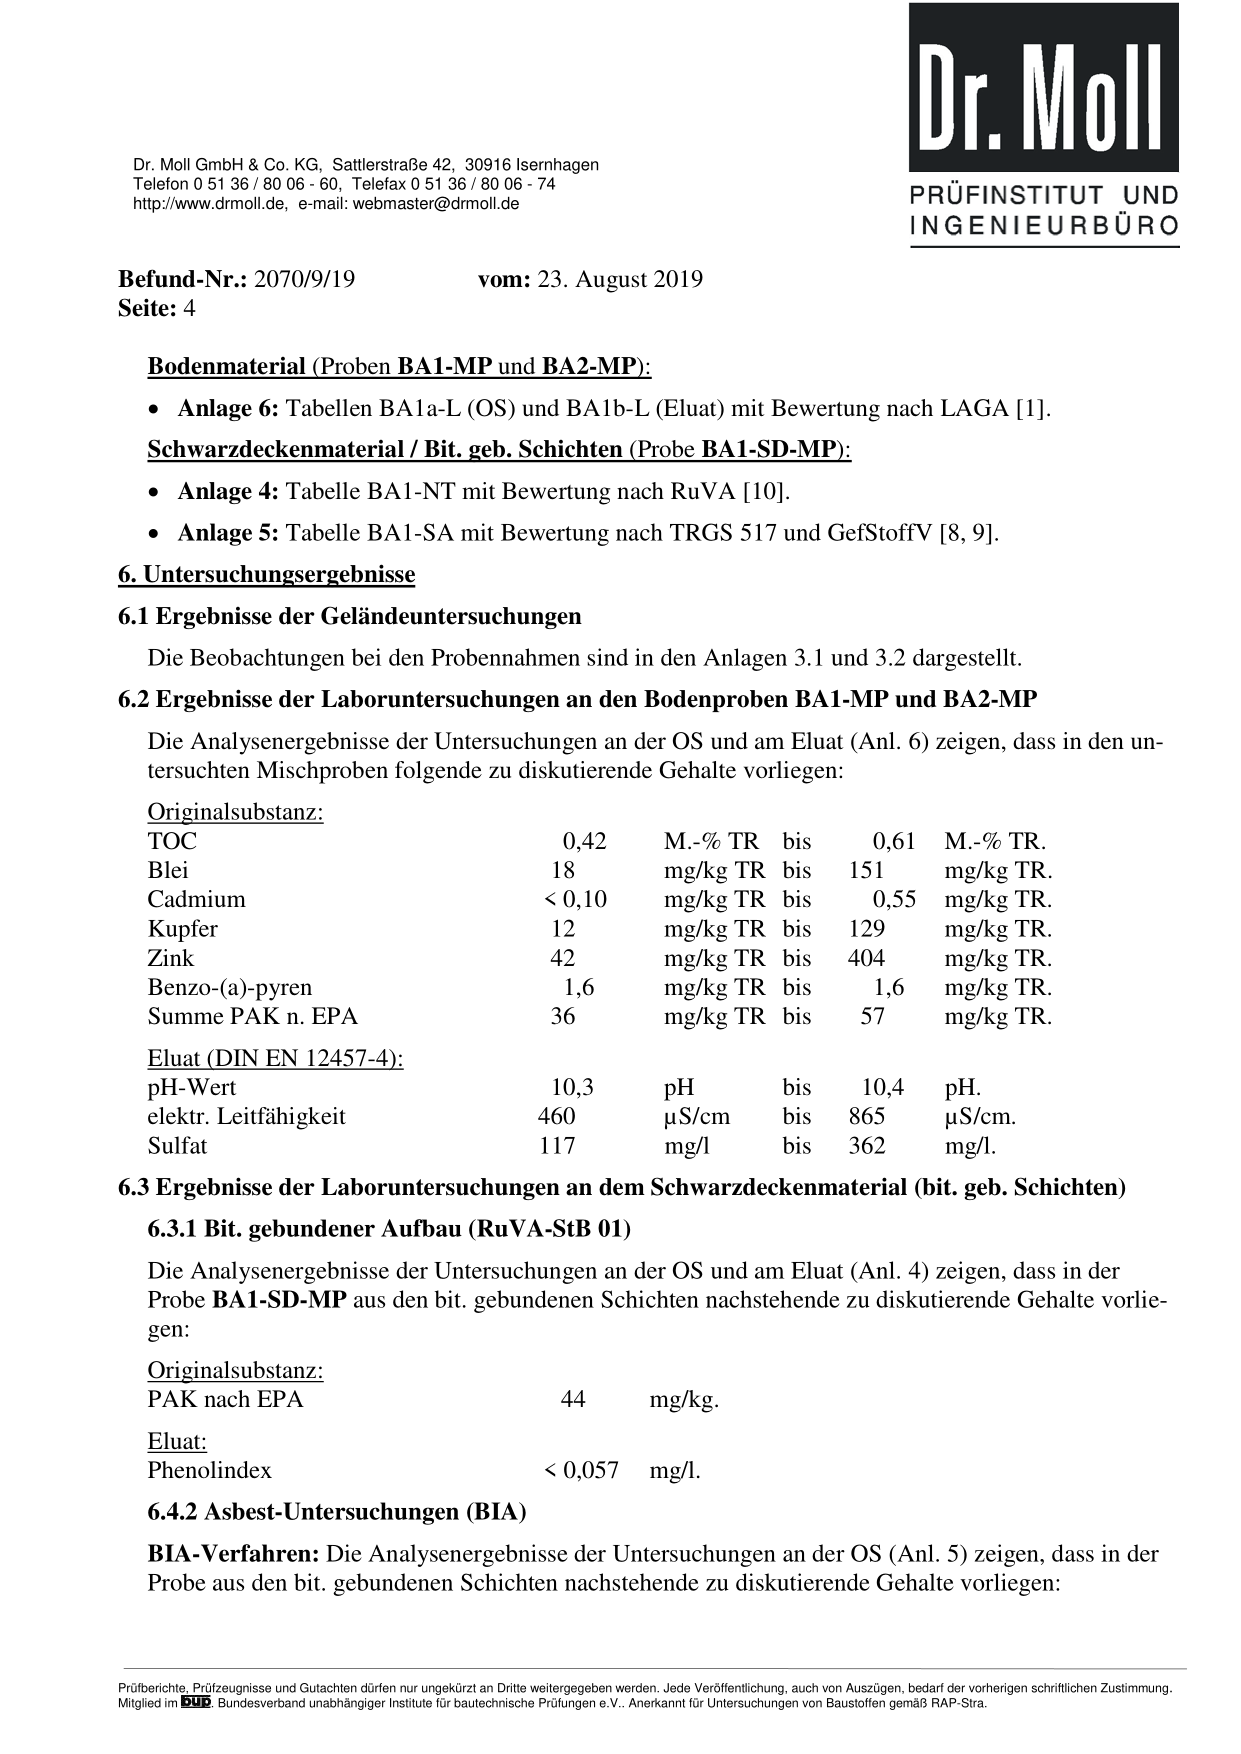table: (124, 796, 1057, 1035), (128, 1044, 1040, 1166)
